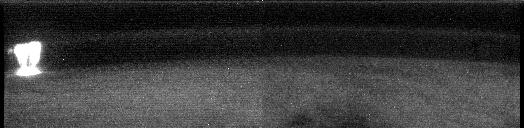positive: (9, 39, 45, 70)
